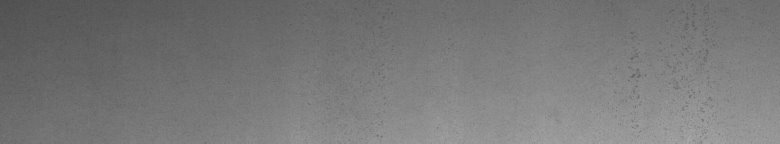ib: (628, 22, 700, 98)
